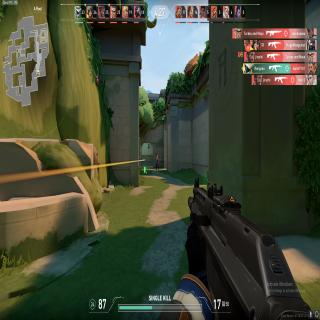ENEMY-BODY: (156, 154, 159, 170)
ENEMY-HEAD: (157, 155, 158, 158)
